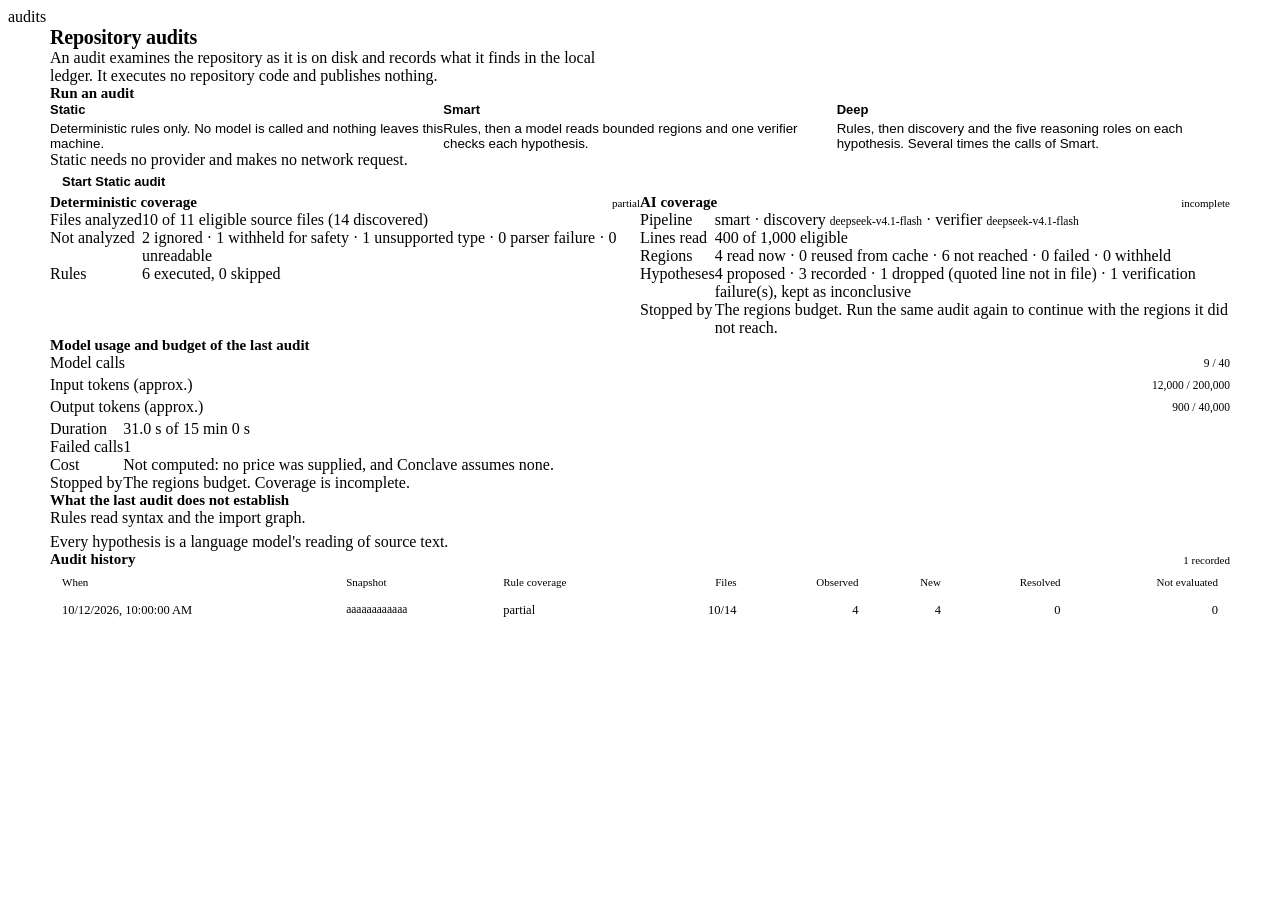
it: audit controls › starts a static audit without any consent step
This screenshot has width=1280, height=900.
Click the button "Start Static audit". click: x=114, y=182
box: [50,169,177,194]
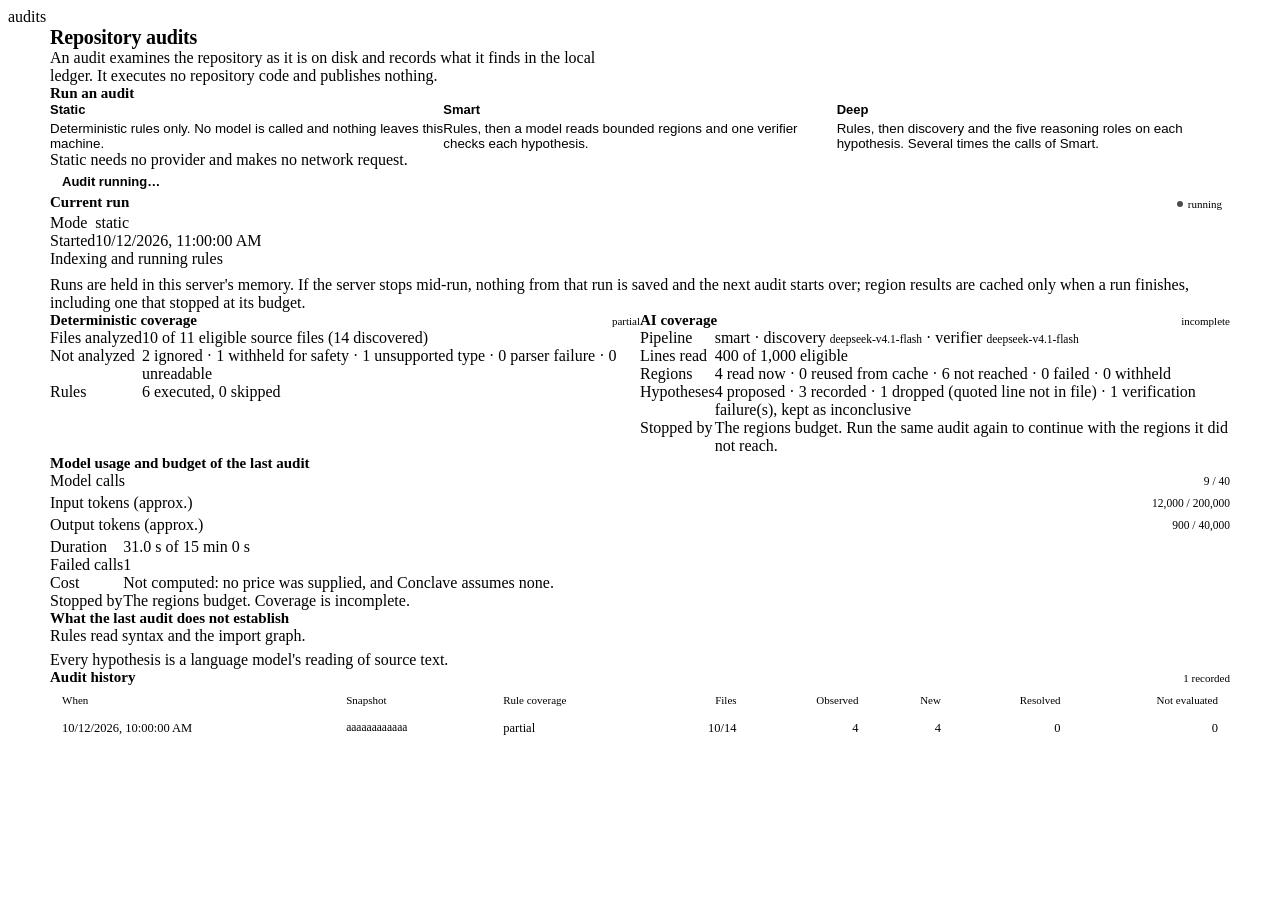
expect the element named "Audit run status" shows "running": met, box [1188,198,1222,210]
